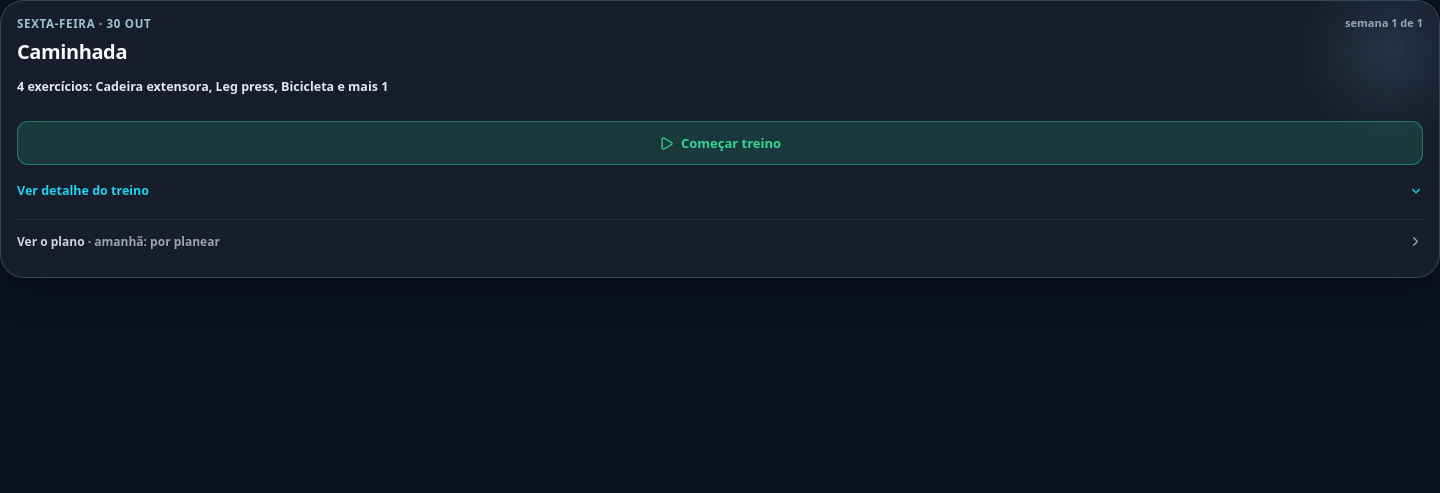
Scenario: DayPlanCard (O que faço hoje) — exercícios do ginásio › a gaveta existe mesmo sem nota, só com os exercícios
Click the button with test id "day-plan-detail-toggle" at (83, 190), box [17,169,1423,213]
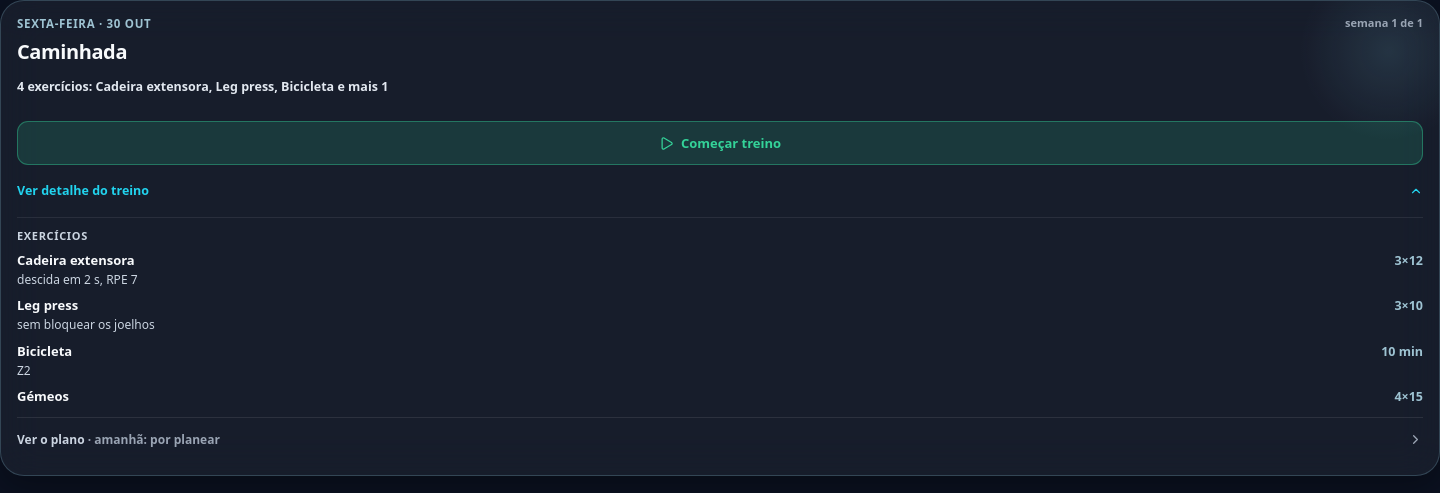
Result: the element with test id "day-plan-exercicios" is shown at [17,228,1423,407]
